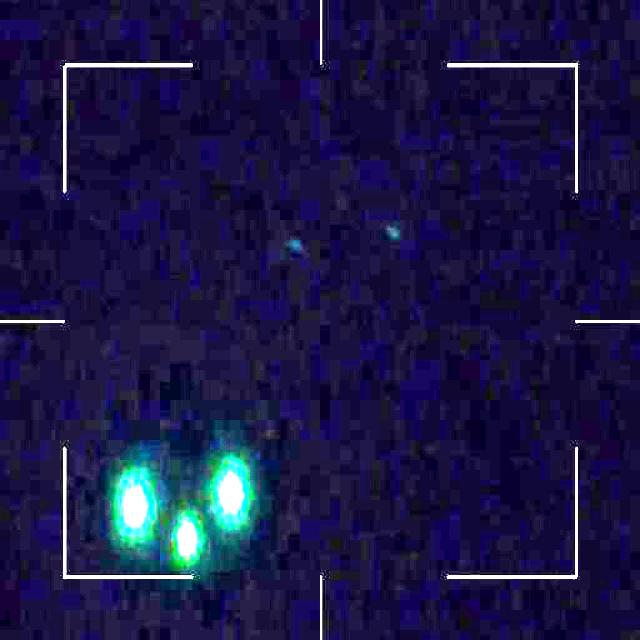bird: (118, 468, 249, 559)
